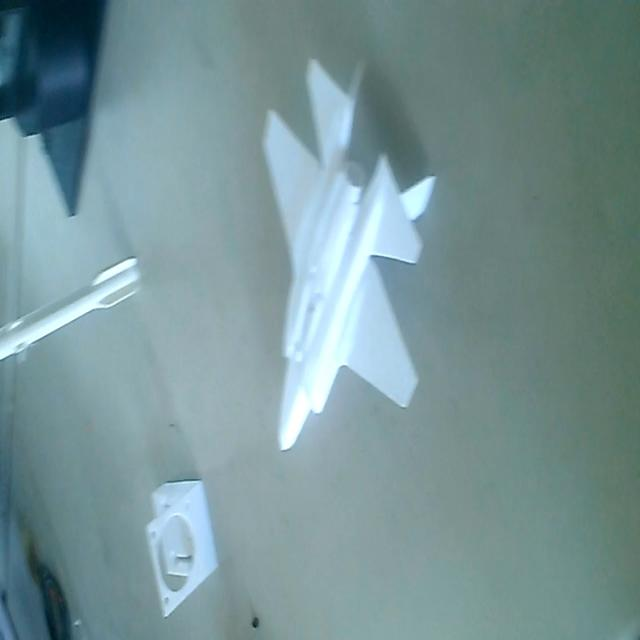Jet: (257, 42, 438, 460)
Rocket: (0, 253, 145, 364)
